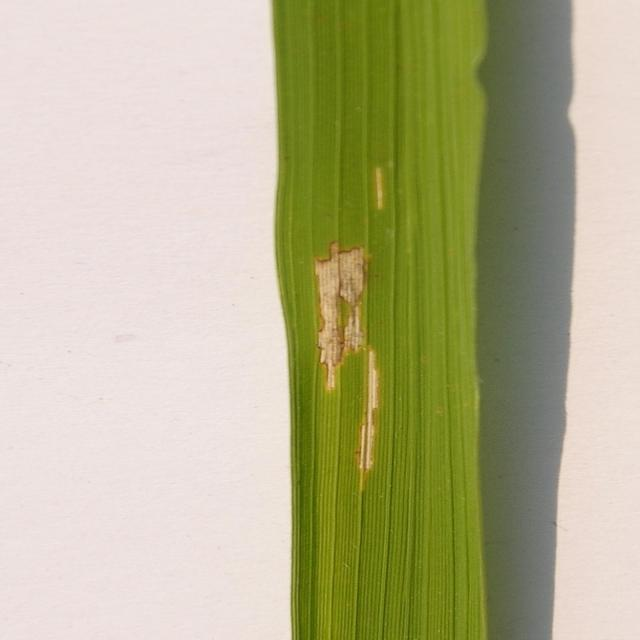Bacterial leaf blight: (253, 1, 516, 640)
